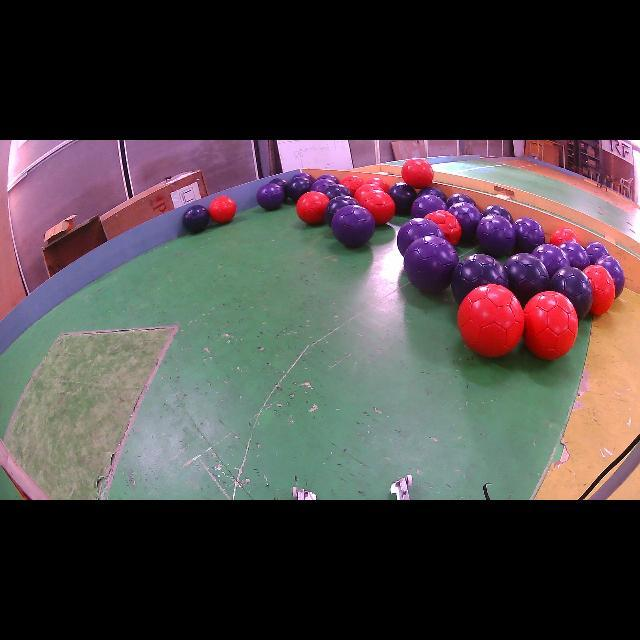B: (451, 254, 509, 303), (504, 252, 550, 306), (550, 266, 592, 320), (325, 195, 360, 228), (388, 182, 416, 214), (182, 205, 210, 232), (288, 176, 312, 201), (481, 205, 514, 222), (446, 192, 478, 208), (322, 184, 352, 200), (418, 186, 448, 202), (270, 178, 289, 198)
P: (404, 236, 459, 292), (331, 205, 375, 248), (396, 218, 445, 256), (476, 215, 515, 258), (531, 244, 570, 279), (595, 255, 625, 297), (449, 202, 481, 240), (514, 218, 545, 253), (559, 241, 590, 270), (411, 195, 448, 218), (256, 184, 284, 210), (585, 241, 610, 264), (310, 179, 335, 192), (292, 171, 315, 182), (316, 174, 340, 184)
R: (458, 285, 525, 358), (522, 291, 579, 360), (584, 265, 615, 315), (425, 210, 461, 245), (360, 190, 395, 225), (296, 191, 330, 224), (401, 159, 434, 189), (209, 196, 236, 224), (550, 228, 580, 246), (354, 184, 384, 201), (340, 175, 364, 195), (364, 178, 390, 192)
